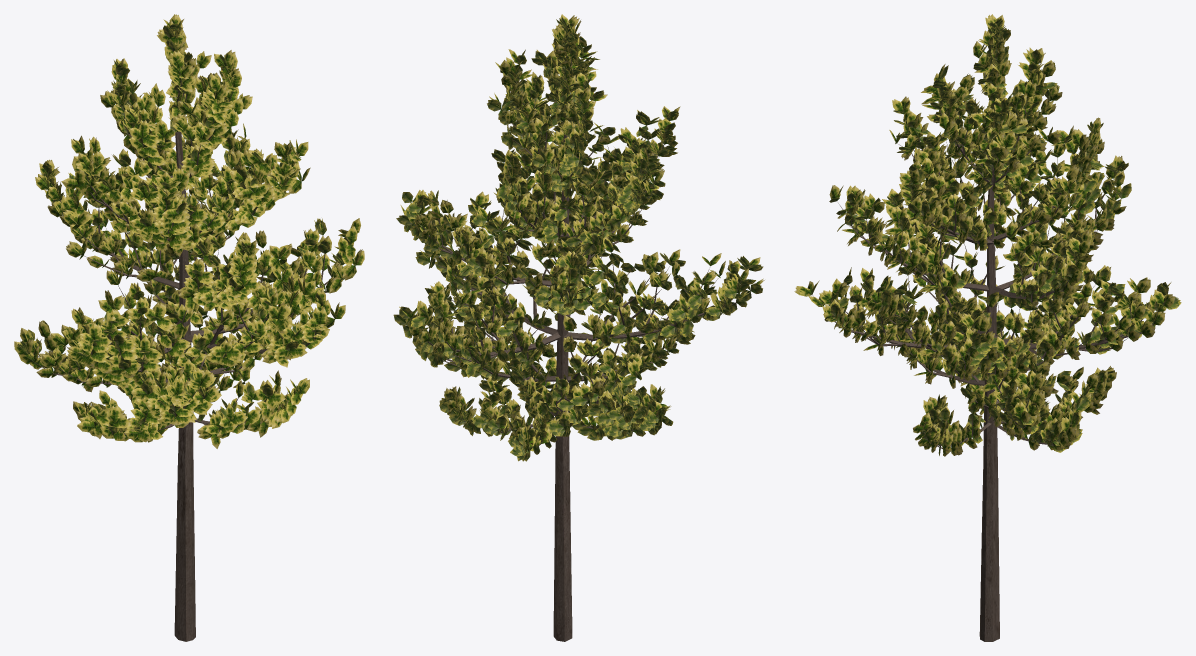
The model's file is sweethome3d-scopia-ficus-352.glb.
The picture shows the model from 3 angles, left to right: view 1: azimuth 30°, elevation 25°; view 2: azimuth 150°, elevation 25°; view 3: azimuth 270°, elevation 25°; orthographic projection.
Parts seen in each view (by area): view 1: leaves_Plane, tree; view 2: leaves_Plane, tree; view 3: leaves_Plane, tree.
Boxes of the visible parts, x1=… form: leaves_Plane: x1=14, y1=14, x2=364, y2=448; tree: x1=27, y1=68, x2=345, y2=641; leaves_Plane: x1=393, y1=14, x2=764, y2=461; tree: x1=420, y1=55, x2=750, y2=641; leaves_Plane: x1=794, y1=14, x2=1181, y2=456; tree: x1=812, y1=59, x2=1163, y2=641.
Bounding box in the file's own units: 275 × 500 × 284.
Materials: 2 (2 with a texture image).
